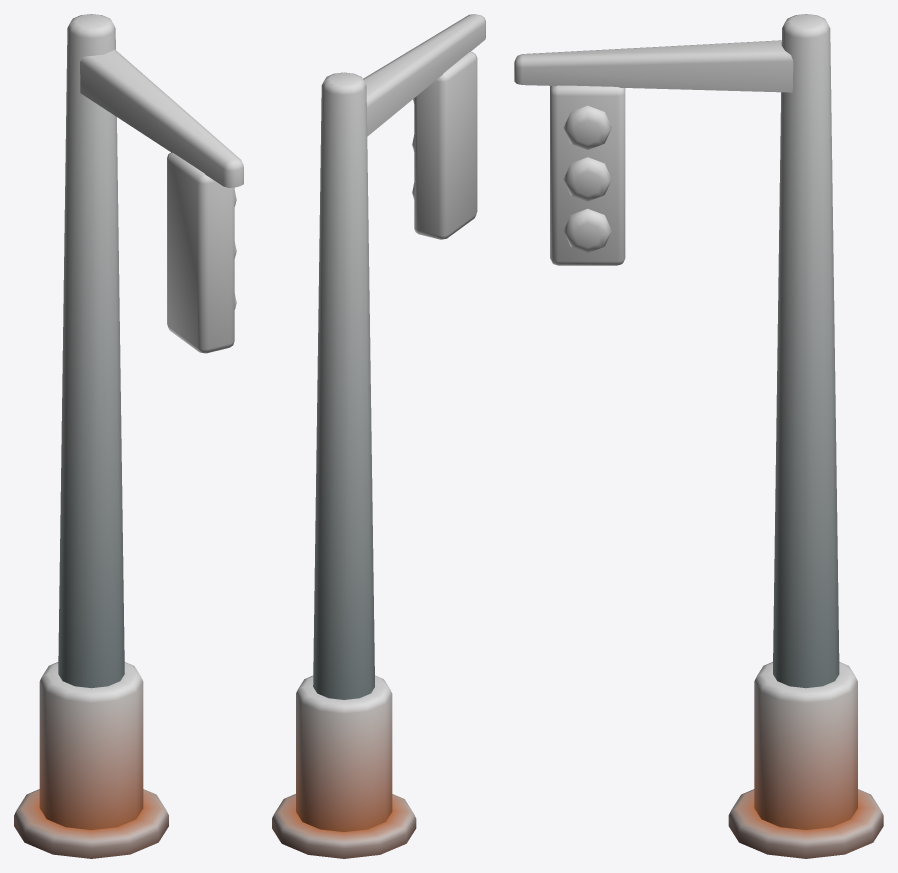
File: NF_Env_Light Traffic.fbx
3 renders of one model, left to right at view 1: azimuth 30°, elevation 25°; view 2: azimuth 150°, elevation 25°; view 3: azimuth 270°, elevation 25°, orthographic. The views are drawn at different scales.
Visible parts, largest first — view 1: Traffic light 1; view 2: Traffic light 1; view 3: Traffic light 1.
Boxes of the visible parts, <box> form: Traffic light 1: <box>14,14,243,858</box>; Traffic light 1: <box>272,14,485,858</box>; Traffic light 1: <box>514,14,883,858</box>.
Bounding box in the file's own units: 0.782 × 4.48 × 1.86.
